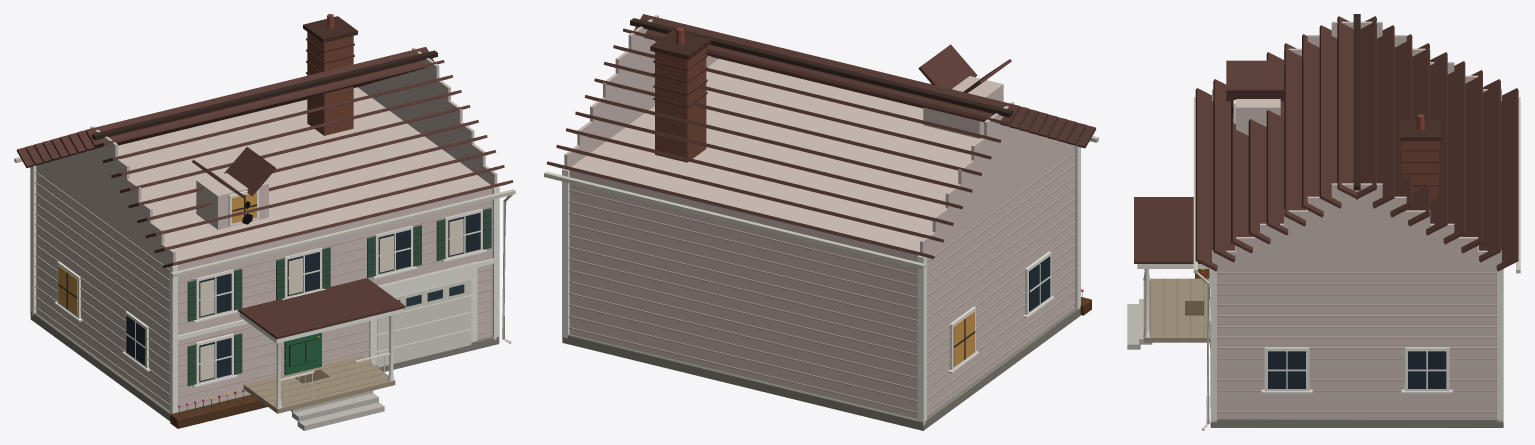
File: suburb_house_c.glb
The picture shows the model from 3 angles, left to right: view 1: azimuth 30°, elevation 25°; view 2: azimuth 150°, elevation 25°; view 3: azimuth 270°, elevation 25°; orthographic projection. The views are drawn at different scales.
Visible parts, largest first — view 1: suburb_house_c; view 2: suburb_house_c; view 3: suburb_house_c.
Boxes of the visible parts, x1=… form: suburb_house_c: x1=14, y1=14, x2=515, y2=430; suburb_house_c: x1=544, y1=14, x2=1098, y2=430; suburb_house_c: x1=1127, y1=14, x2=1520, y2=430.
Bounding box in the file's own units: 12.83 × 9.65 × 12.34.
